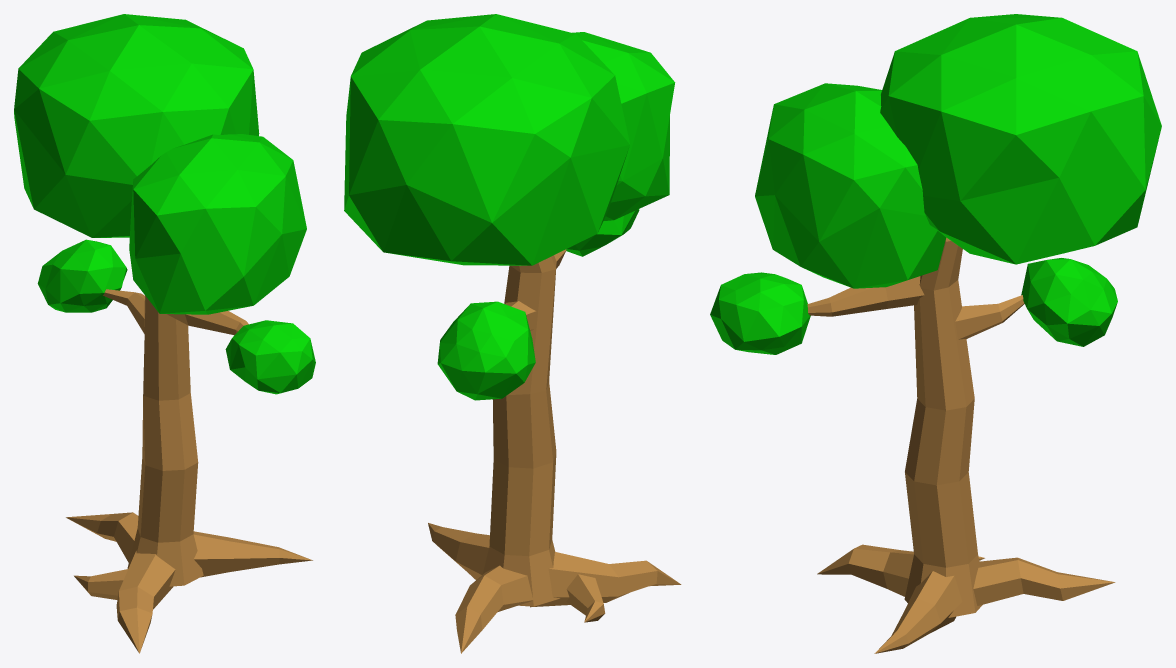
The model's file is Tree.fbx.
3 renders of one model, left to right at view 1: azimuth 30°, elevation 25°; view 2: azimuth 150°, elevation 25°; view 3: azimuth 270°, elevation 25°, orthographic. The views are drawn at different scales.
Parts seen in each view (by area): view 1: Tree; view 2: Tree; view 3: Tree.
Boxes of the visible parts, x1=… form: Tree: x1=14, y1=14, x2=315, y2=653; Tree: x1=344, y1=14, x2=681, y2=653; Tree: x1=710, y1=14, x2=1161, y2=653.
Size of the model in its own units: 275 by 661 by 452.
